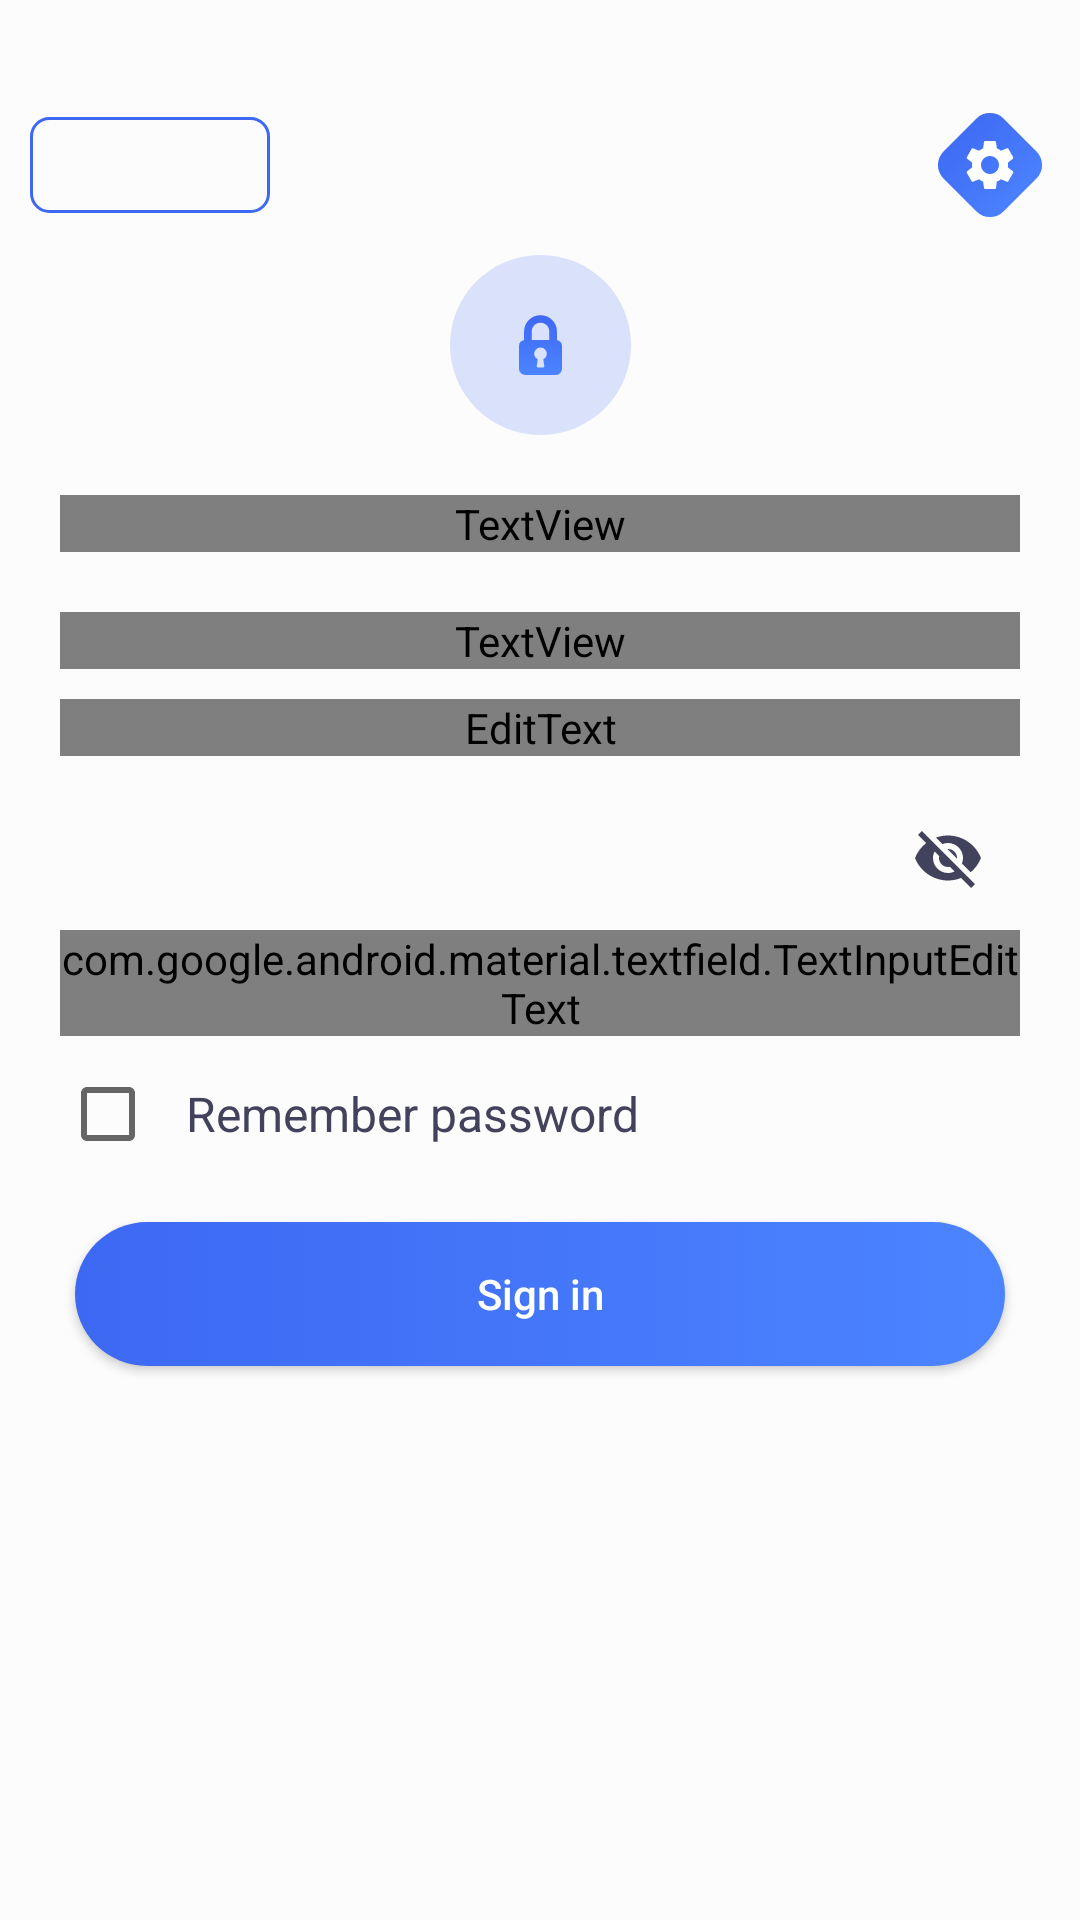

Named icons in this screenshot (1080px×1920px) and their centers, (x=x, y=y):
settings: (x=990, y=165)
shape lock: (x=540, y=345)
